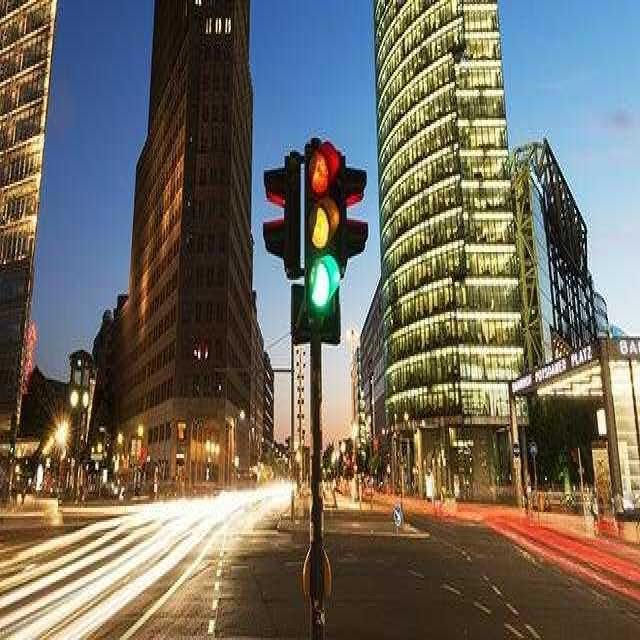Traffic Light -Green-: (300, 132, 347, 326)
